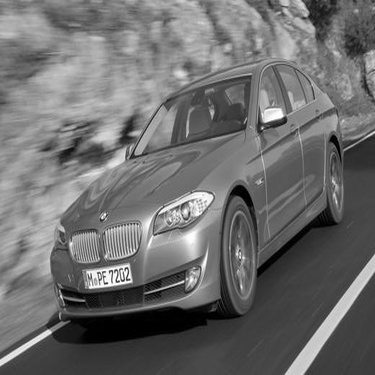car: (43, 55, 349, 329)
